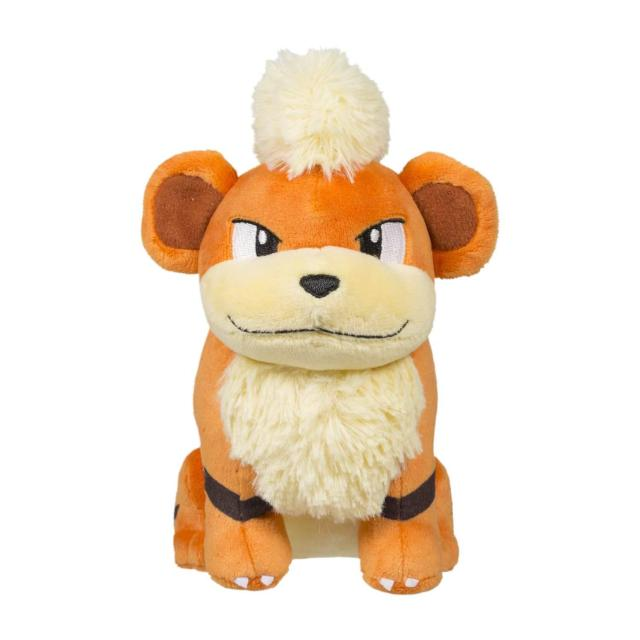Growlithe: (140, 56, 499, 590)
